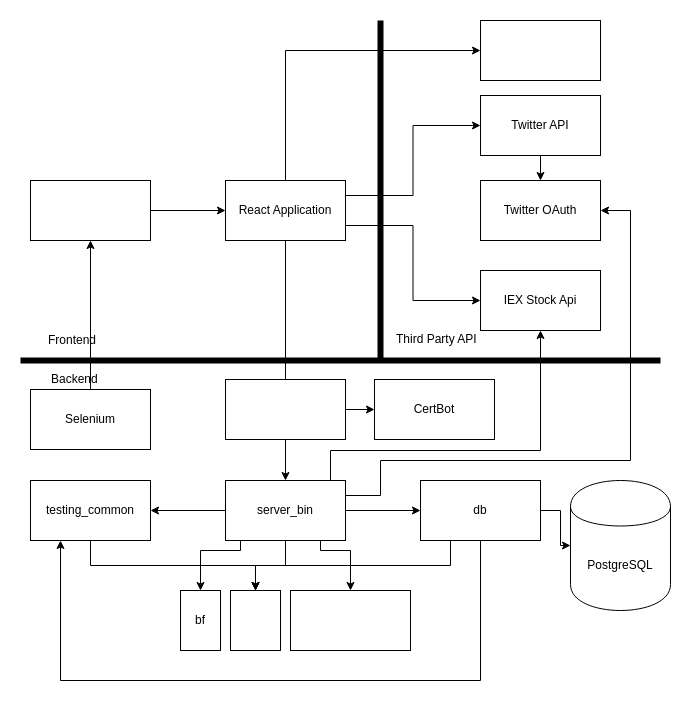
Some shapes in this 688 by 706 pixel diagram are drawn without their labels. Each missing label, with the box of its shape:
auth: (290, 590, 410, 650)
Nginx: (224, 378, 346, 440)
pool: (230, 590, 280, 650)
Weather API: (480, 20, 600, 80)
WebDriver: (30, 180, 150, 240)
